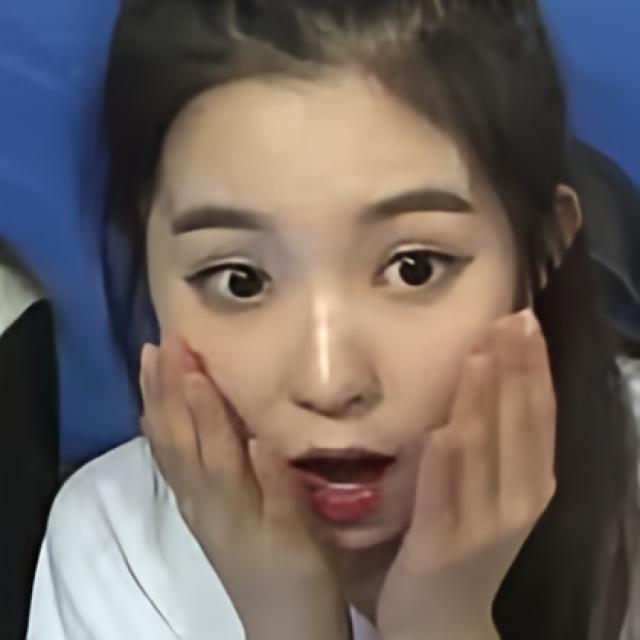surprise: (145, 66, 521, 552)
